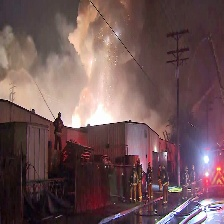fire: (71, 114, 115, 127)
smoke: (1, 1, 167, 106)
